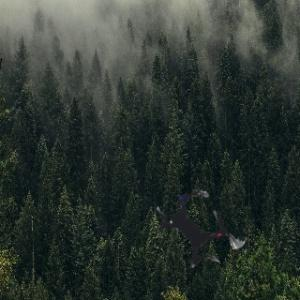drone: (130, 159, 268, 297)
